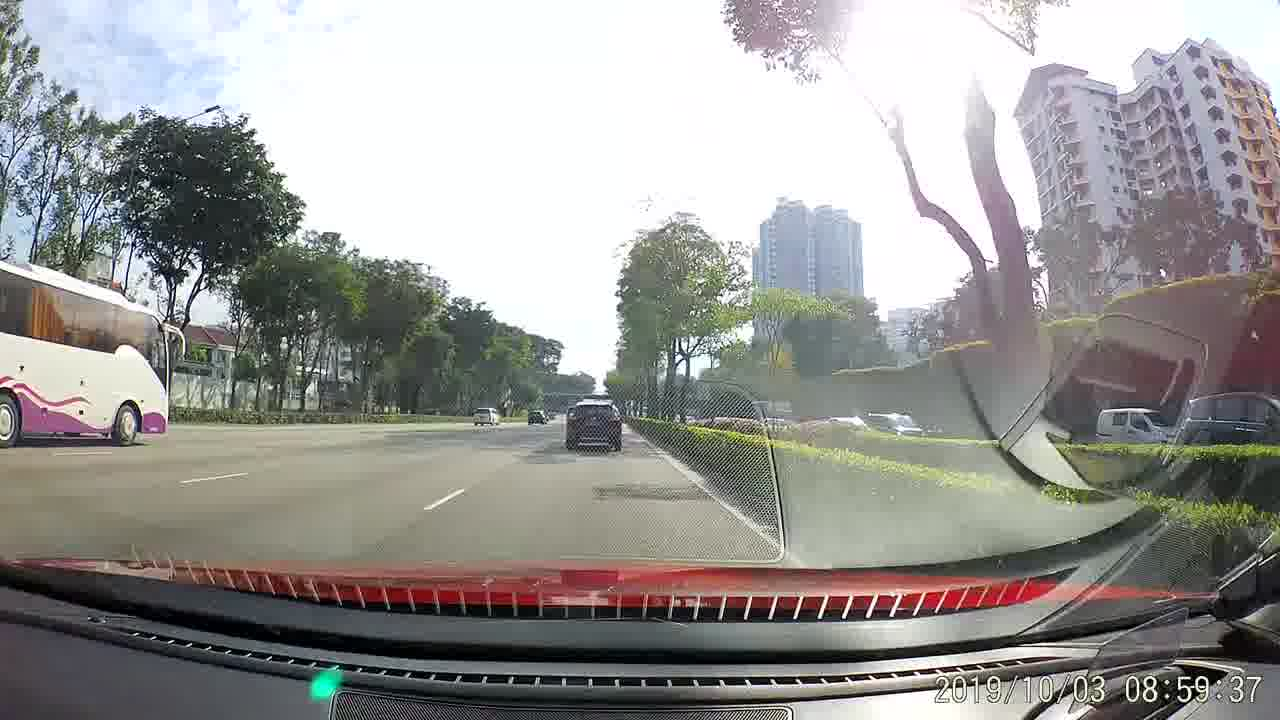bus: (0, 255, 192, 447)
car: (1186, 386, 1277, 444), (566, 395, 624, 453), (858, 406, 925, 436), (470, 406, 503, 427), (525, 408, 549, 423)
